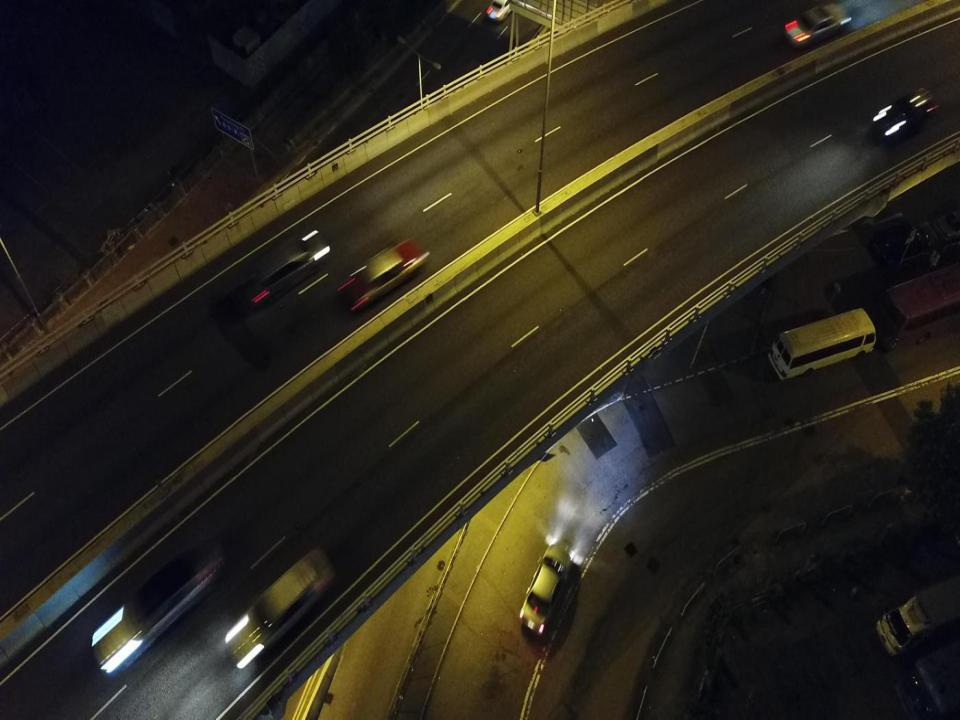bus: (769, 306, 876, 381)
car: (92, 543, 223, 674), (225, 542, 335, 670), (338, 236, 425, 310), (246, 231, 330, 304), (520, 544, 572, 638), (873, 87, 937, 145), (786, 2, 850, 50), (872, 221, 931, 265), (487, 0, 529, 23)
truck: (871, 262, 960, 354), (875, 572, 960, 659)
